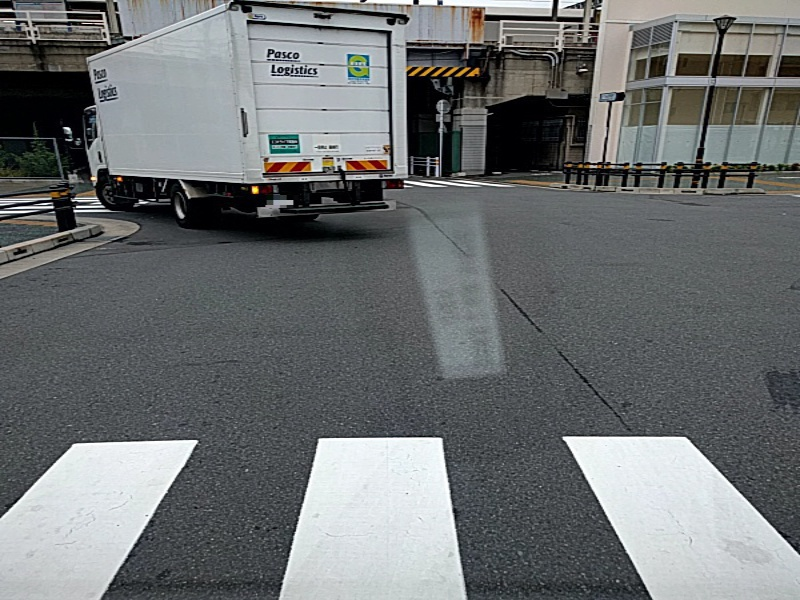long_crack: (478, 274, 646, 432)
